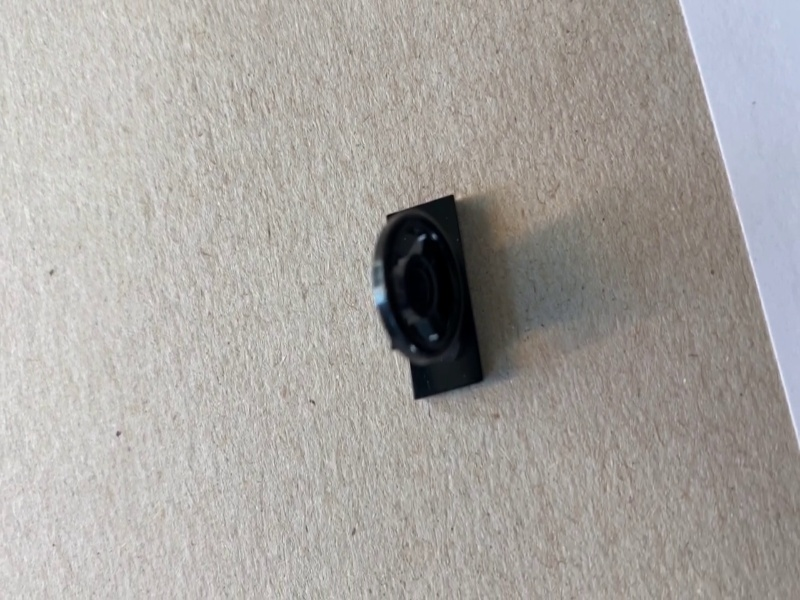steering wheel: (370, 194, 486, 400)
